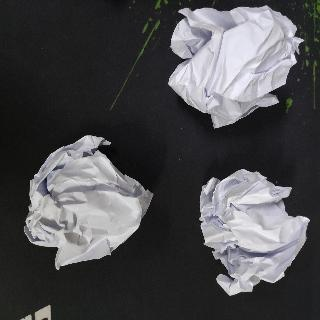8/可回收垃圾/纸: (23, 134, 154, 268), (167, 5, 305, 128), (198, 169, 310, 297)
